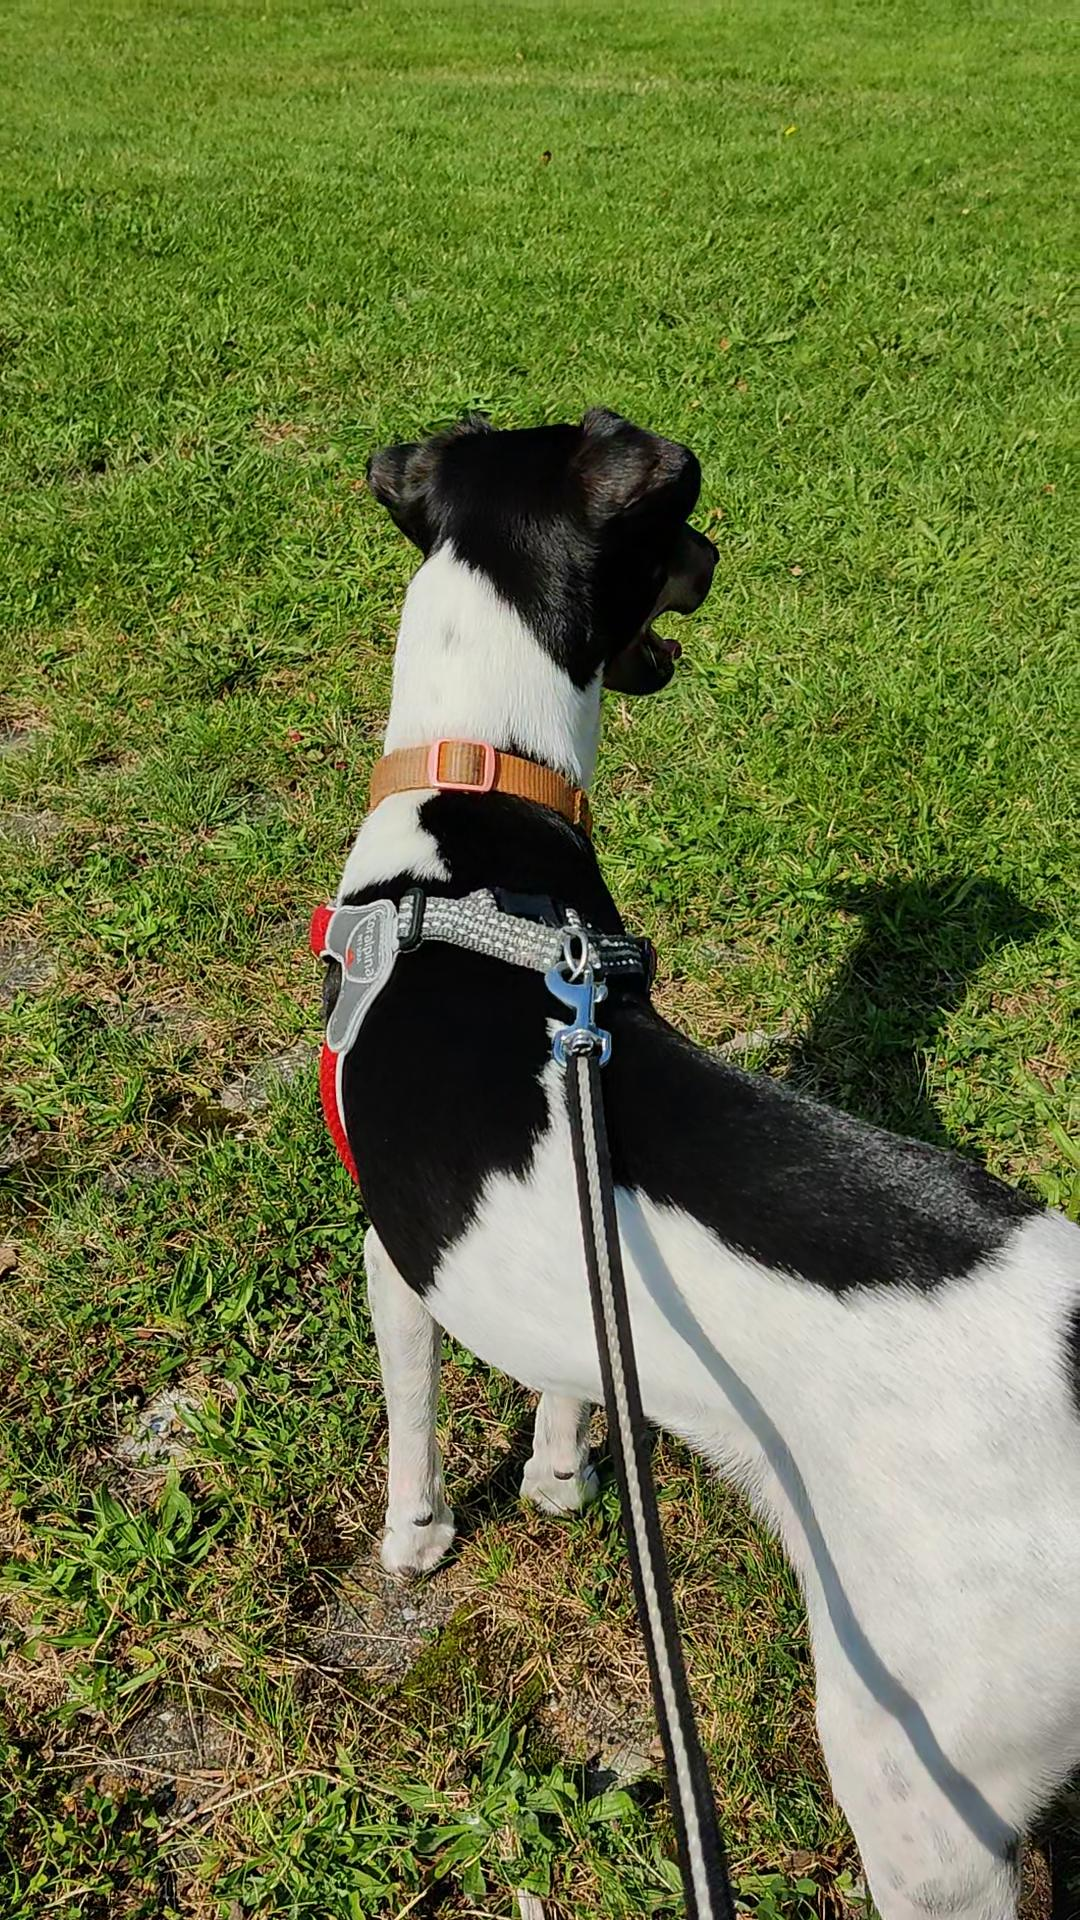Dog: (295, 401, 1079, 1919)
